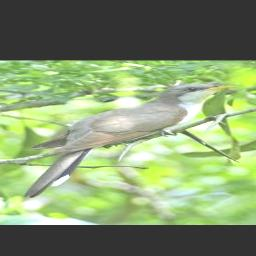Cuckoo: (22, 83, 239, 197)
